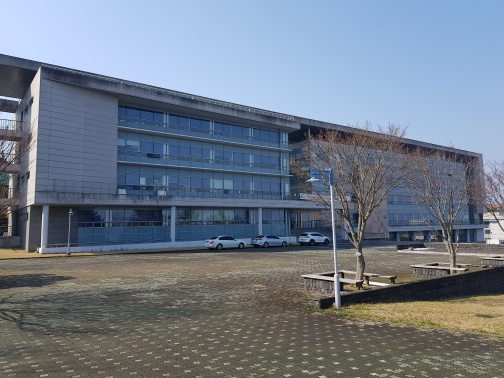Engineering College Building 4: (6, 61, 488, 242), (20, 66, 287, 233), (293, 125, 476, 232)
